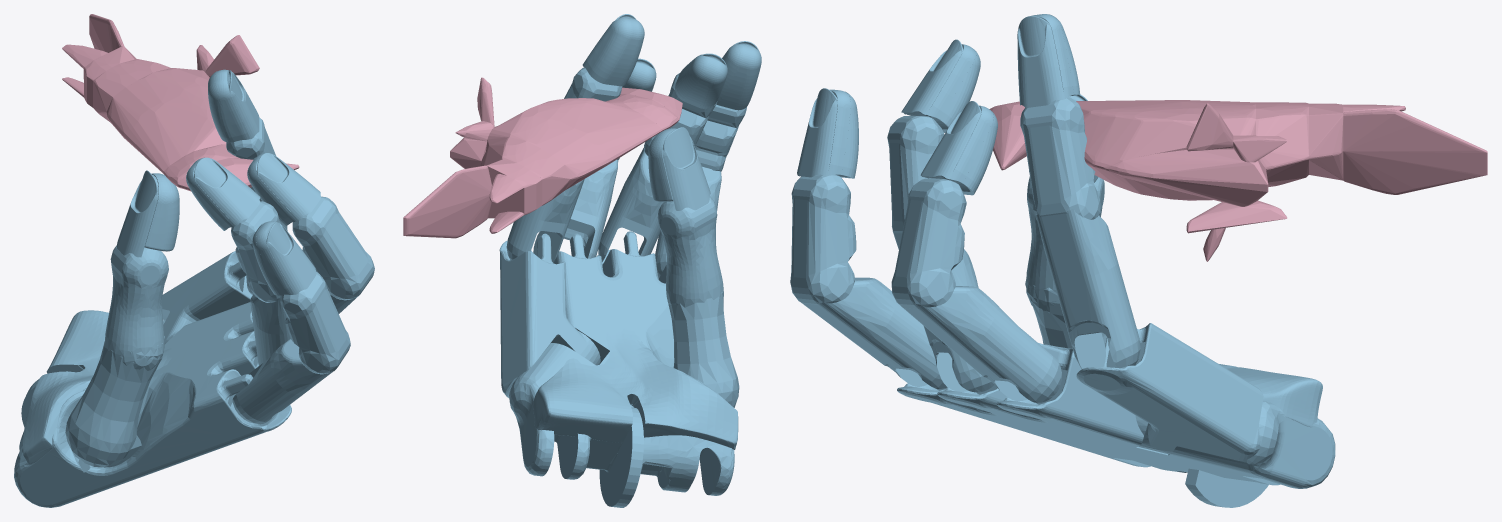
3 views of the same model, side by side, from view 1: azimuth 30°, elevation 25°; view 2: azimuth 150°, elevation 25°; view 3: azimuth 270°, elevation 25° (orthographic). The views are drawn at different scales.
Parts seen in each view (by area): view 1: hand_isaac_q, world; view 2: hand_isaac_q, world; view 3: hand_isaac_q, world.
Boxes of the visible parts, x1,y1,x2,y2 form: hand_isaac_q: [14, 69, 374, 507]; world: [62, 14, 299, 191]; hand_isaac_q: [499, 14, 761, 507]; world: [403, 77, 682, 238]; hand_isaac_q: [790, 14, 1335, 507]; world: [989, 100, 1487, 261].
Size of the model in its own units: 0.1097 by 0.1741 by 0.2072.
